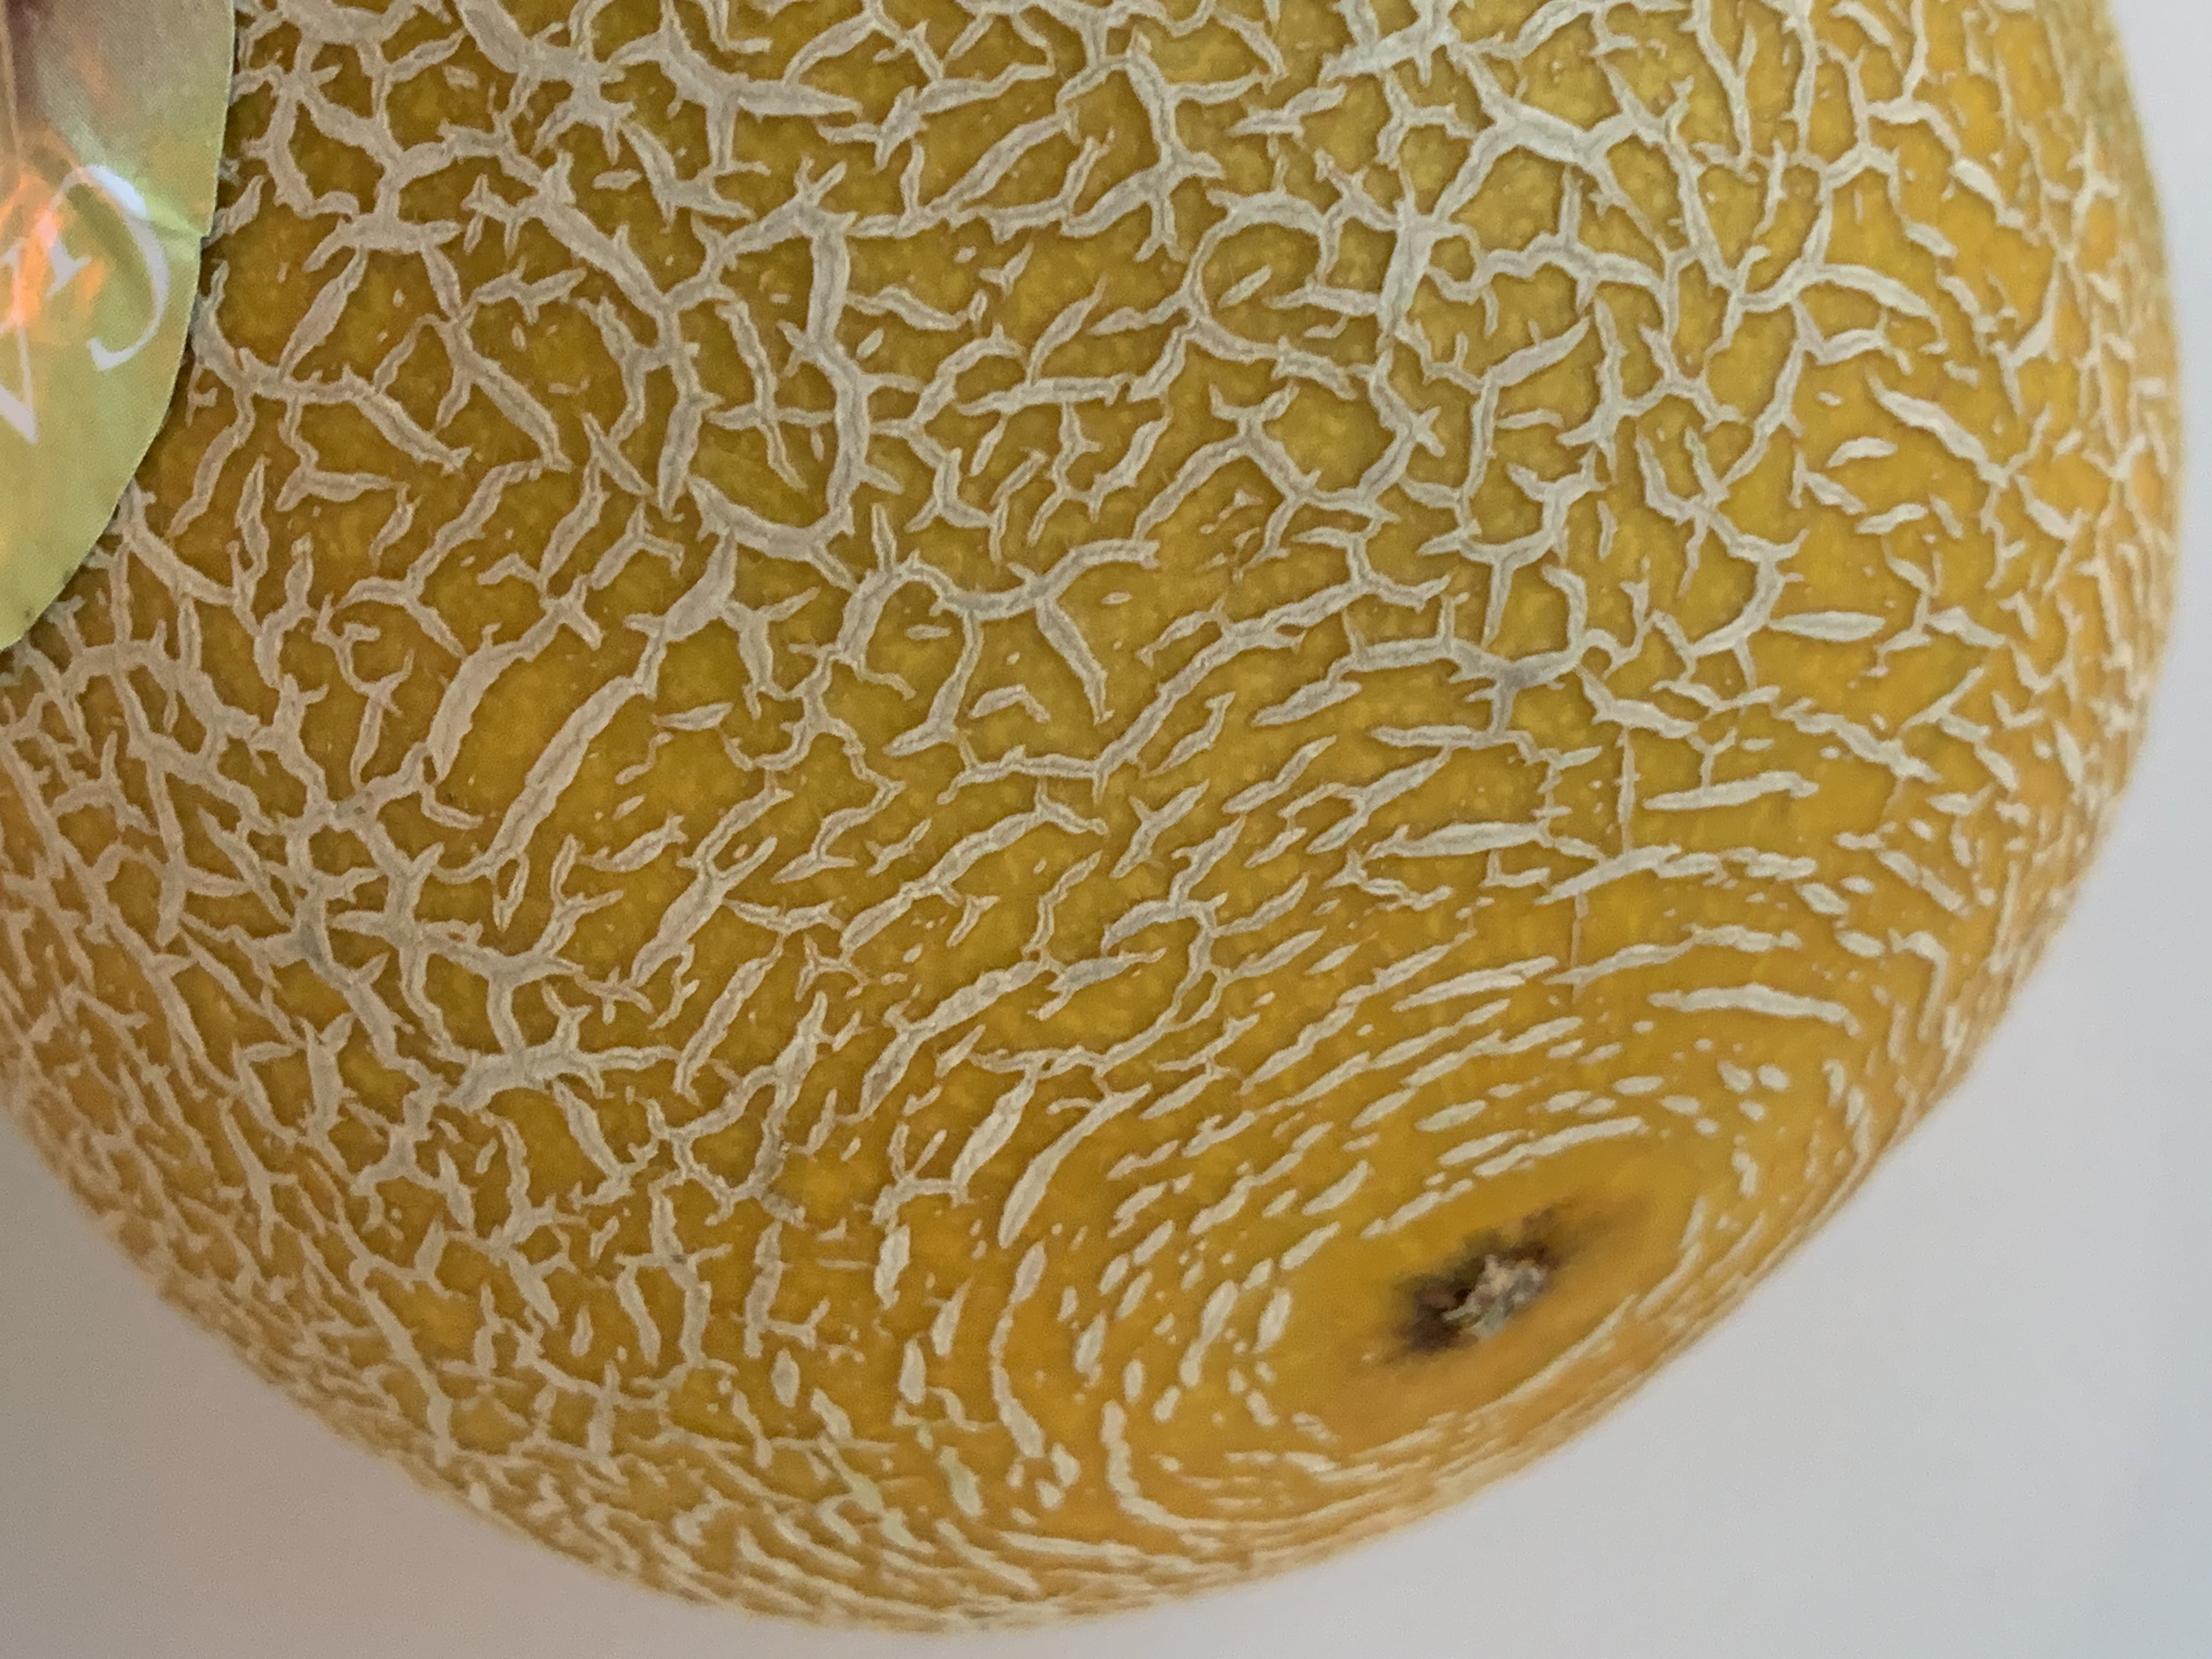galia melon: (0, 14, 2078, 1600)
